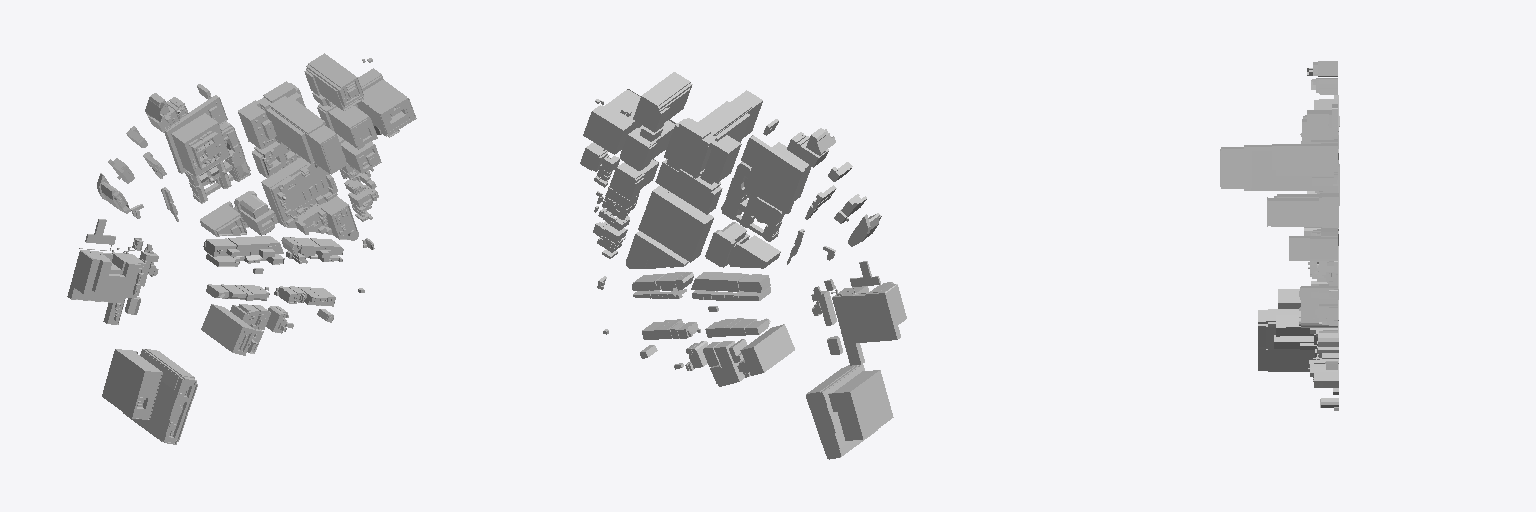
Rendered from 533946212_bldg_6677.obj.
The picture shows the model from 3 angles: view 1: azimuth 30°, elevation 25°; view 2: azimuth 150°, elevation 25°; view 3: azimuth 270°, elevation 25°; orthographic projection.
Size of the model in its own units: 603 by 579 by 197.